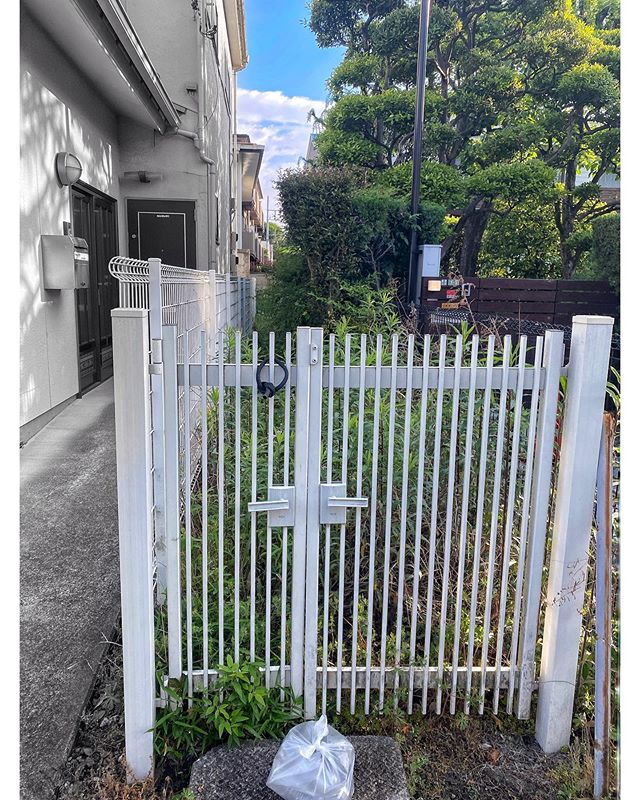gate: (146, 326, 593, 715)
sky: (239, 4, 340, 166)
tree: (279, 1, 640, 289)
